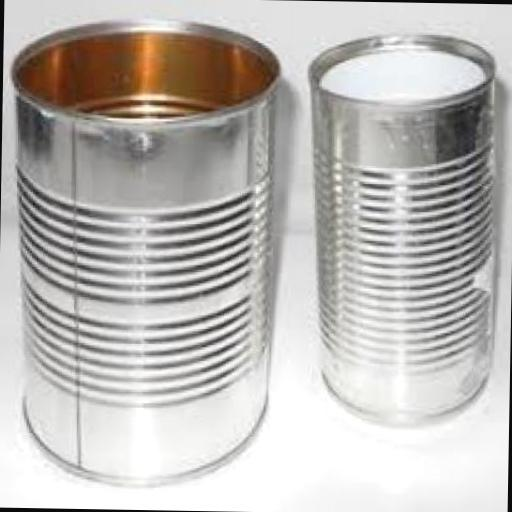metal: (0, 16, 282, 485), (299, 28, 498, 420)
